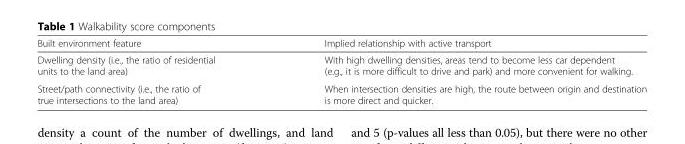table: (36, 37, 646, 105)
table column: (269, 37, 646, 105), (36, 37, 269, 105)
table column header: (36, 37, 646, 51)
table row: (36, 51, 646, 79), (36, 79, 646, 105), (36, 37, 646, 51)
